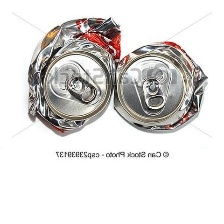can: (24, 13, 124, 138), (113, 40, 210, 139)
